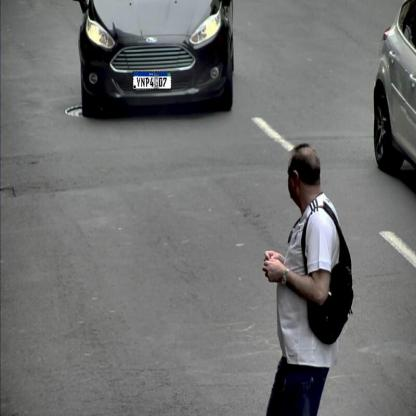PlacaM: (132, 72, 172, 90)
